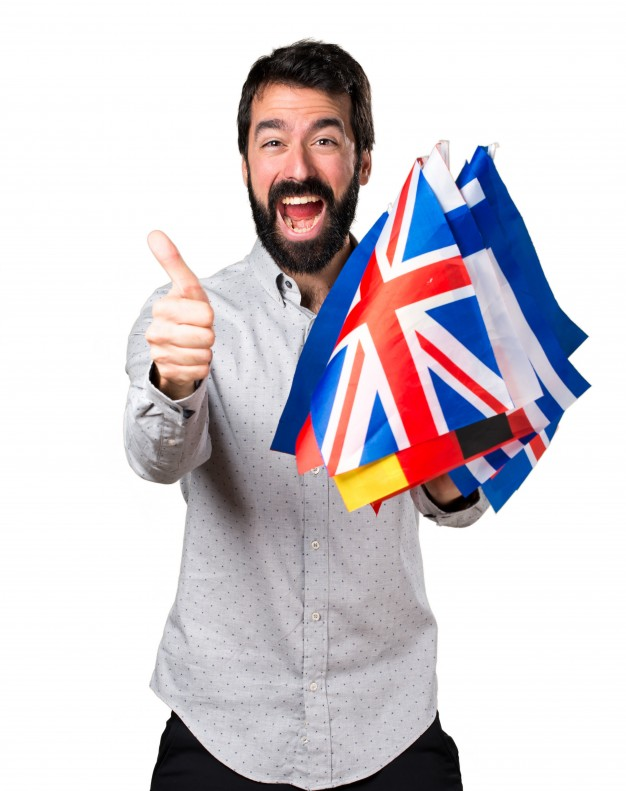thumbsup: (147, 230, 215, 380)
